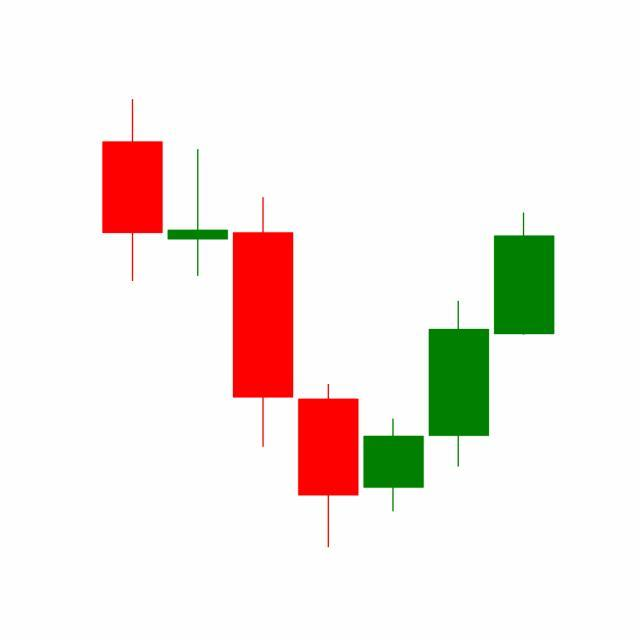Hikkake Pattern: (165, 145, 492, 549)
